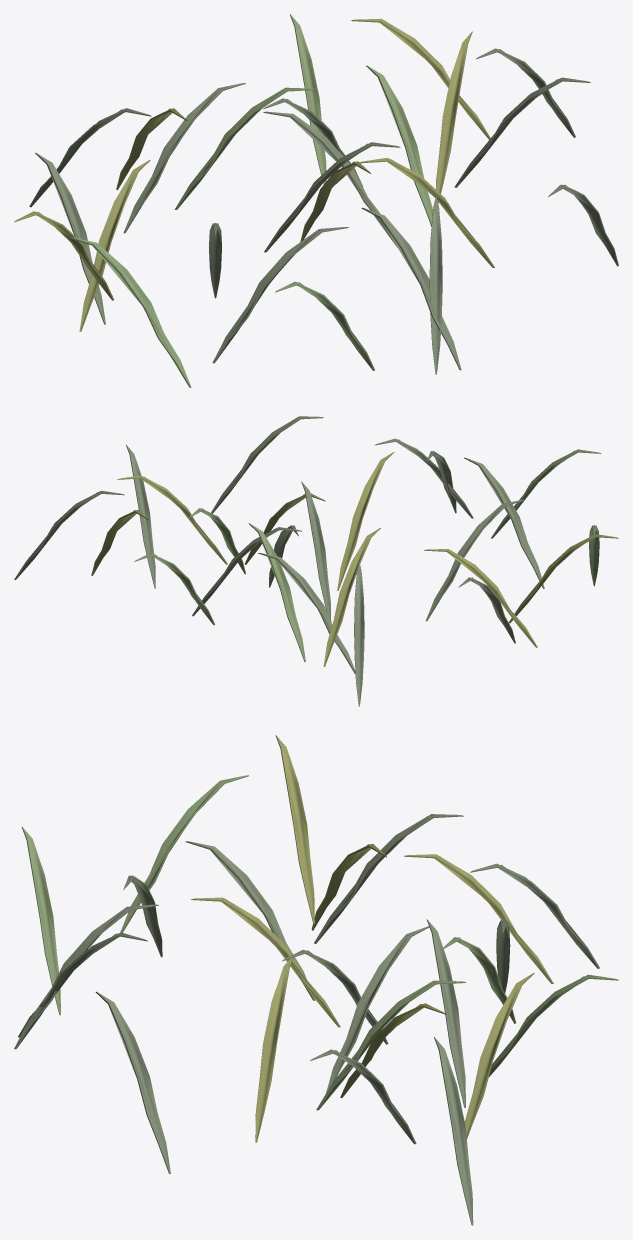
Rendered from less plants.fbx.
3 views of the same model, one above another, from view 1: azimuth 30°, elevation 25°; view 2: azimuth 150°, elevation 25°; view 3: azimuth 270°, elevation 25° (orthographic). The views are drawn at different scales.
Parts seen in each view (by area): view 1: grass11, grass2, grass14, grass19, grass16, grass23, grass17, grass5, grass8, grass20, grass10, grass22 (+13 smaller); view 2: grass6, grass3, grass, grass10, grass24, grass13, grass20, grass17, grass21, grass23, grass12, grass11 (+13 smaller); view 3: grass18, grass15, grass12, grass7, grass9, grass1, grass4, grass22, grass19, grass21, grass24, grass (+13 smaller).
Part boxes in pixels (box(x1,y1,x2,y2)): grass11: box(436, 31, 472, 203); grass2: box(429, 195, 442, 374); grass14: box(366, 65, 432, 226); grass19: box(69, 237, 191, 387); grass16: box(361, 207, 461, 370); grass23: box(79, 160, 150, 331); grass17: box(123, 83, 245, 233); grass5: box(290, 14, 326, 184); grass8: box(35, 153, 105, 324); grass20: box(212, 227, 348, 363); grass10: box(174, 87, 315, 209); grass22: box(263, 111, 397, 247); grass6: box(354, 562, 364, 706); grass3: box(301, 481, 331, 621); grass: box(337, 452, 394, 590); grass10: box(248, 523, 305, 662); grass24: box(323, 528, 380, 666); grass13: box(126, 445, 155, 588); grass20: box(464, 457, 544, 588); grass17: box(258, 553, 355, 674); grass21: box(425, 499, 524, 621); grass23: box(424, 549, 537, 647); grass12: box(211, 416, 323, 513); grass11: box(117, 475, 227, 564); grass18: box(275, 735, 314, 923); grass15: box(255, 957, 293, 1142); grass12: box(95, 991, 170, 1174); grass7: box(434, 1037, 473, 1225); grass9: box(426, 919, 465, 1107); grass1: box(21, 827, 60, 1015); grass4: box(464, 973, 534, 1138); grass22: box(326, 926, 429, 1092); grass19: box(120, 775, 248, 932); grass21: box(185, 841, 315, 1000); grass24: box(404, 854, 553, 983); grass: box(191, 897, 340, 1027).
Bounding box in the file's own units: 0.898 × 0.2035 × 0.6768.
